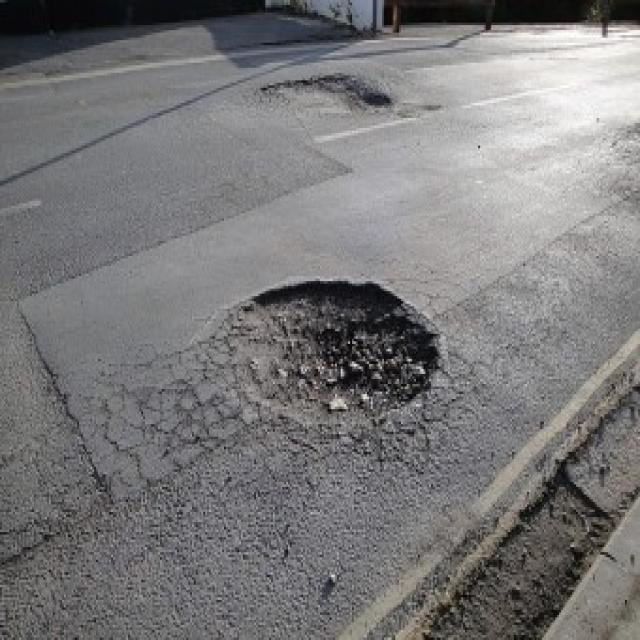pothole: (204, 242, 446, 449)
